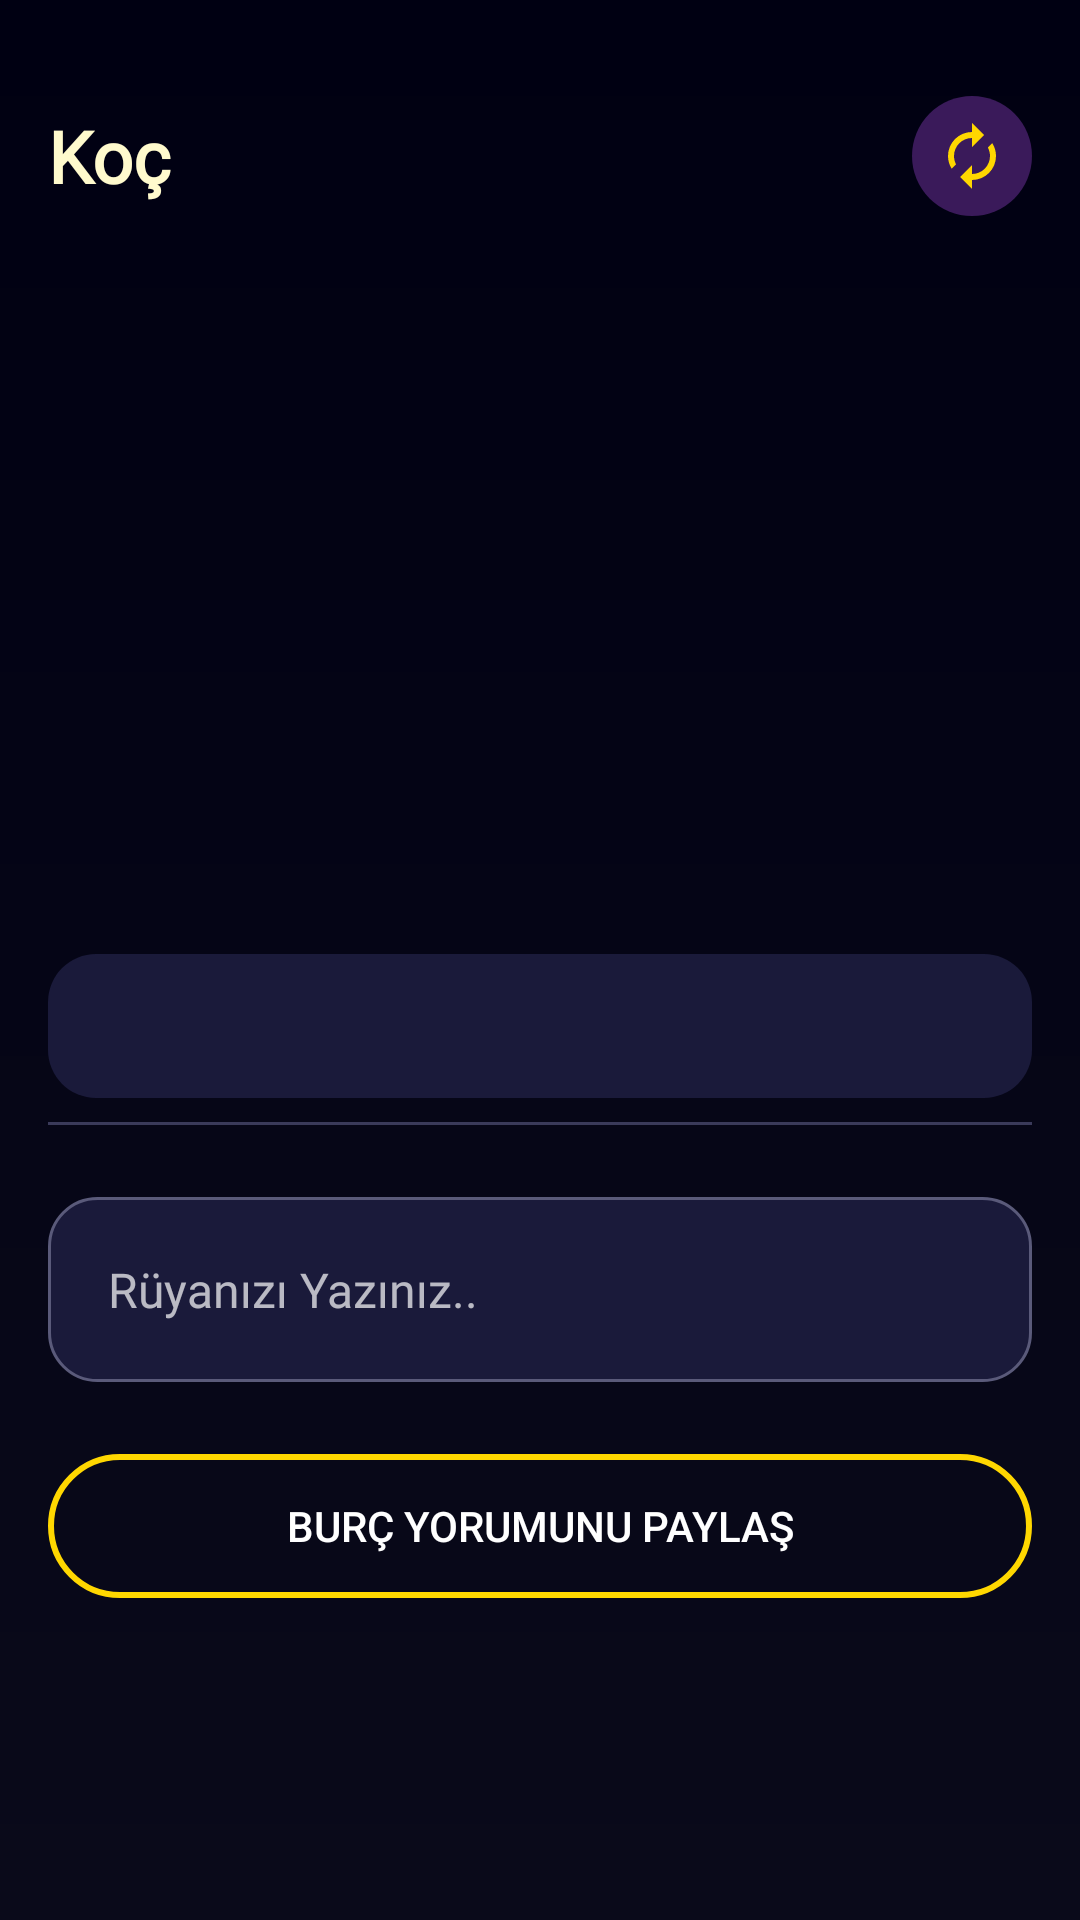

Screen size 1080 × 1920. Icon name, then its box in pixels as (x1, y1, x2, y2):
Burç Değiştir: (912, 96, 1032, 216)
